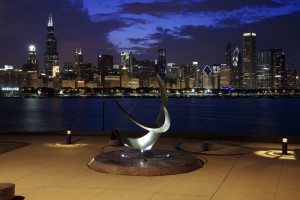willis: (42, 7, 59, 77)
